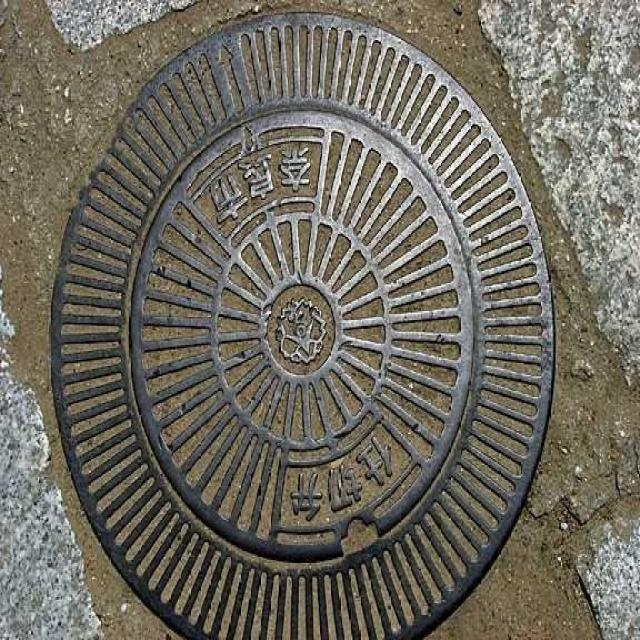manhole: (132, 112, 470, 553)
